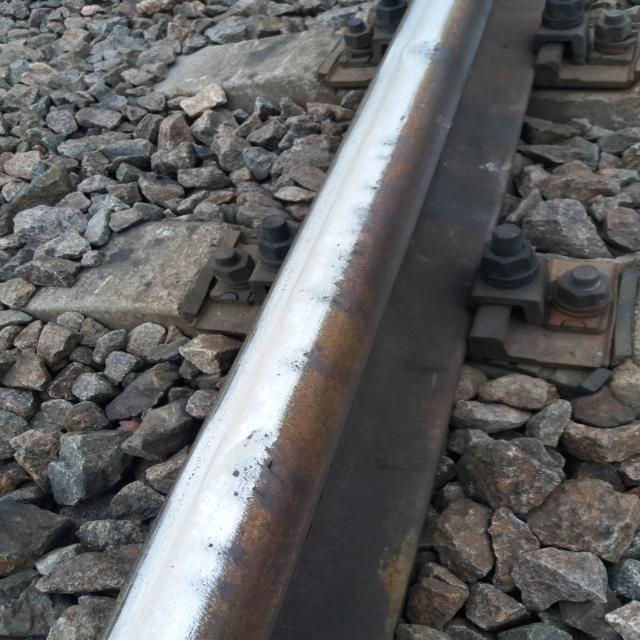broken_rail_medium: (242, 425, 270, 449), (264, 453, 282, 487), (330, 241, 346, 270), (230, 467, 242, 499), (292, 348, 308, 372), (310, 291, 332, 305), (371, 183, 380, 193), (206, 541, 215, 549)
